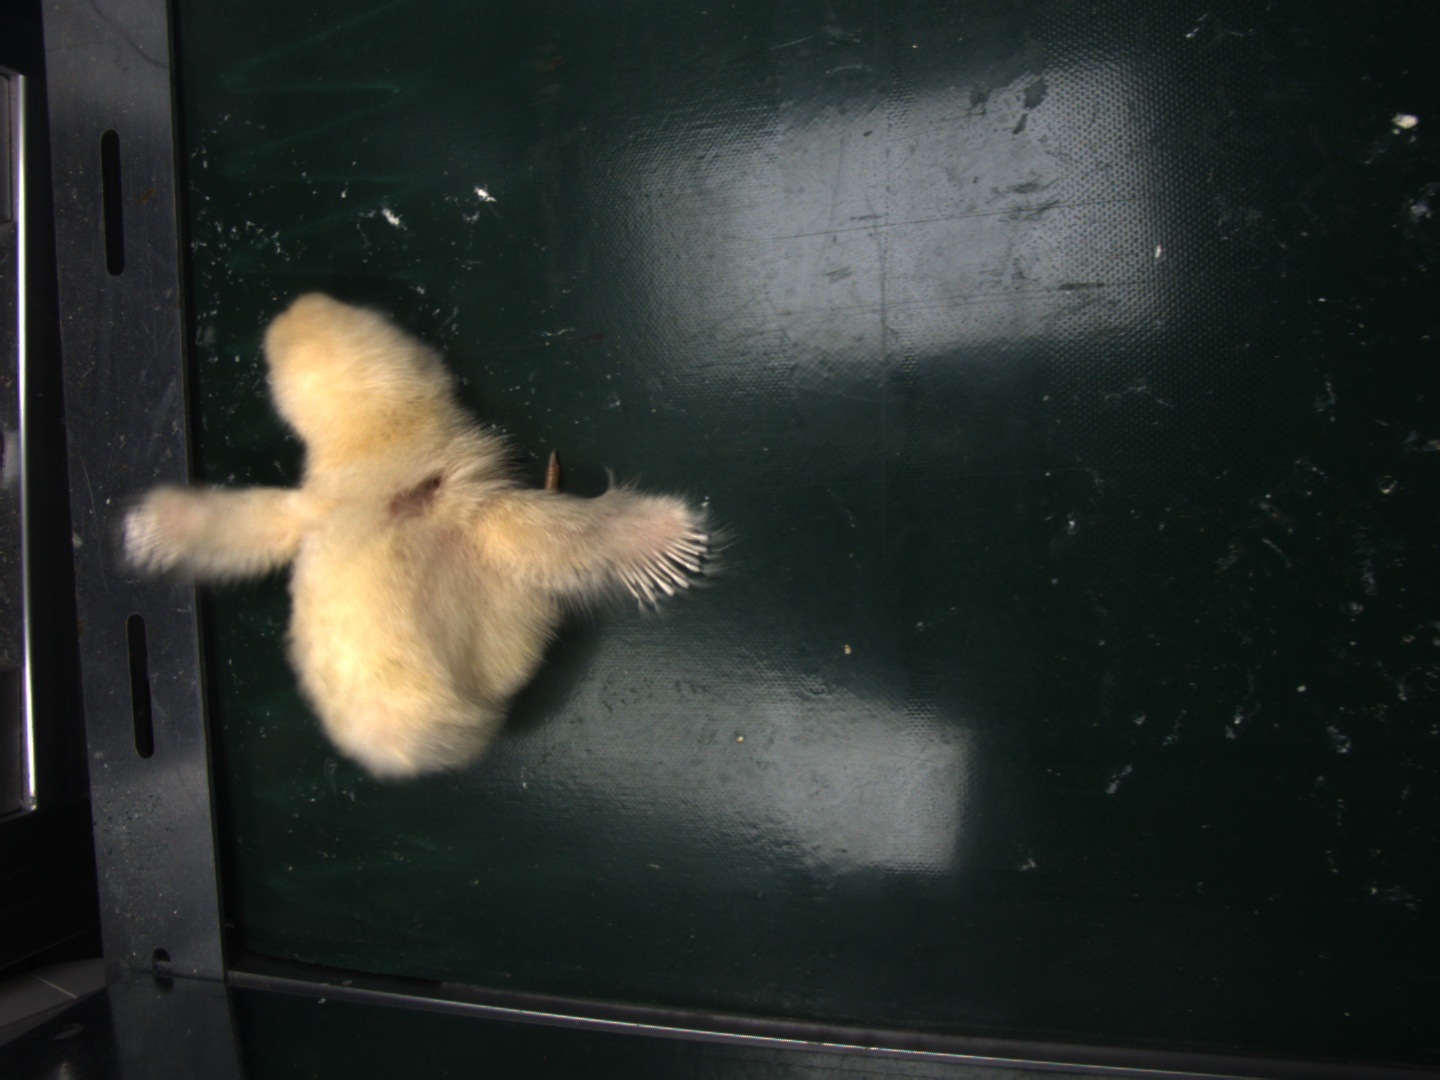male: (624, 530, 708, 602)
